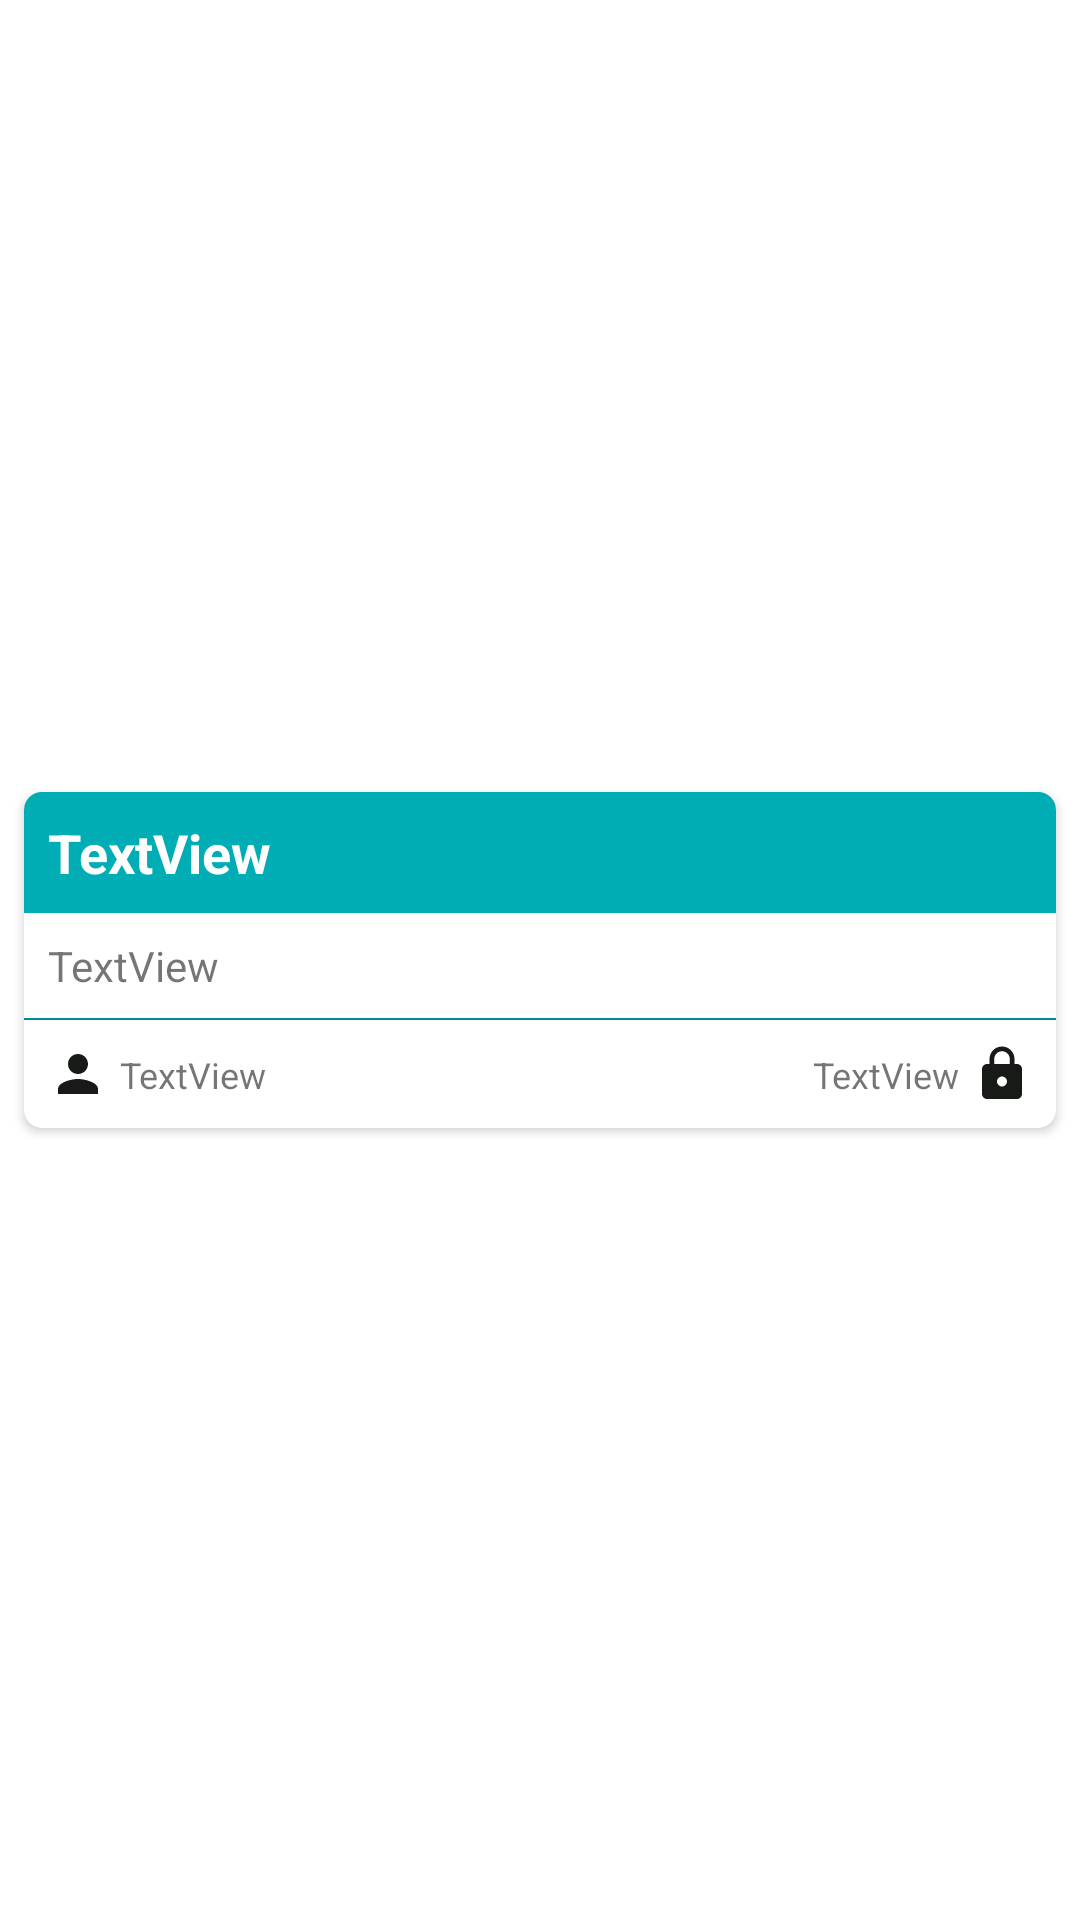

Icon bounding boxes for this 1080 x 1920 phone screenshot, format (x1, y1, x2, y2):
lock: (982, 1046, 1022, 1099)
person: (58, 1054, 98, 1094)
